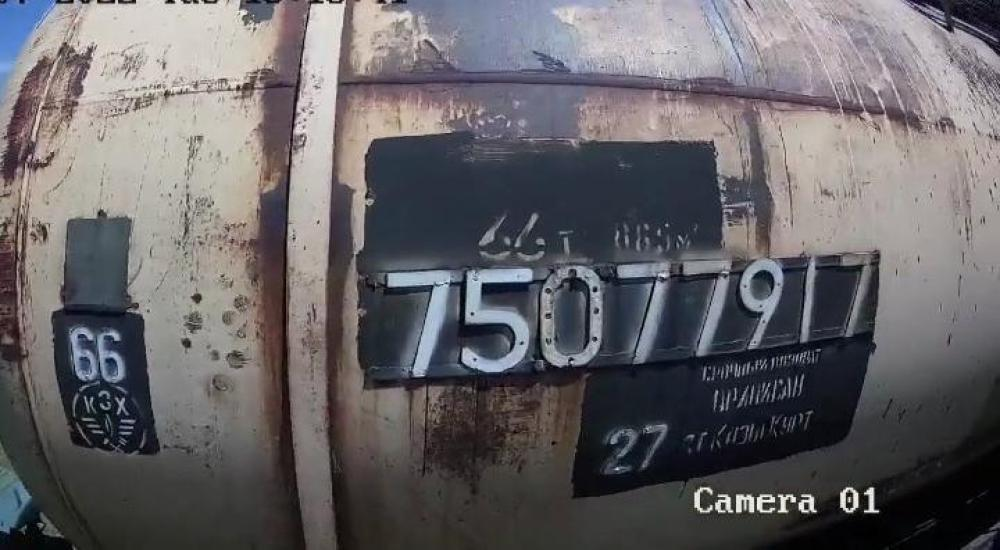Wagon-number: (381, 246, 880, 382)
